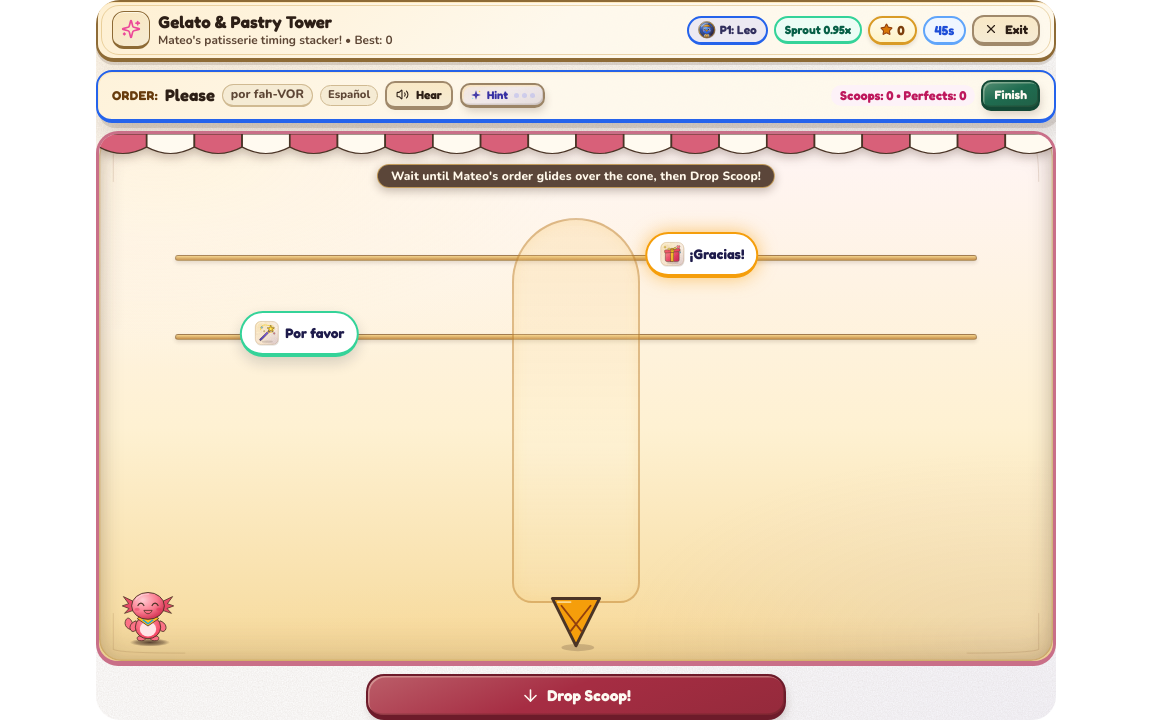
it: Cohort F [PT-101..PT-115]: Sprint 2 Features (Operation Starlight Horizon) › [PT-107] (S2-005 / S2-007) runs 2P Family Co-Op Arcade pass-and-play turn flow and settles dual-profile stats atomically
The image size is (1152, 720).
Earlier steps of the test are not shown.
Click the button "Drop Scoop!": (576, 697) [366,674,786,719]
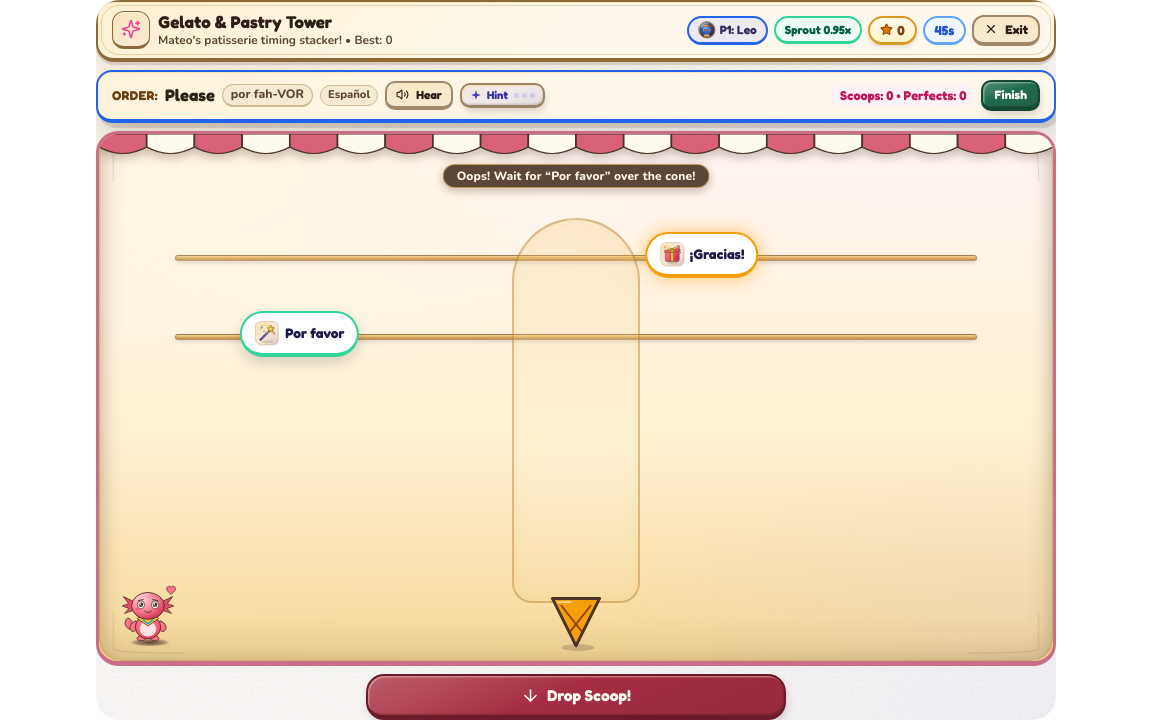
Click the button "Finish": (1011, 96) [981,80,1040,111]
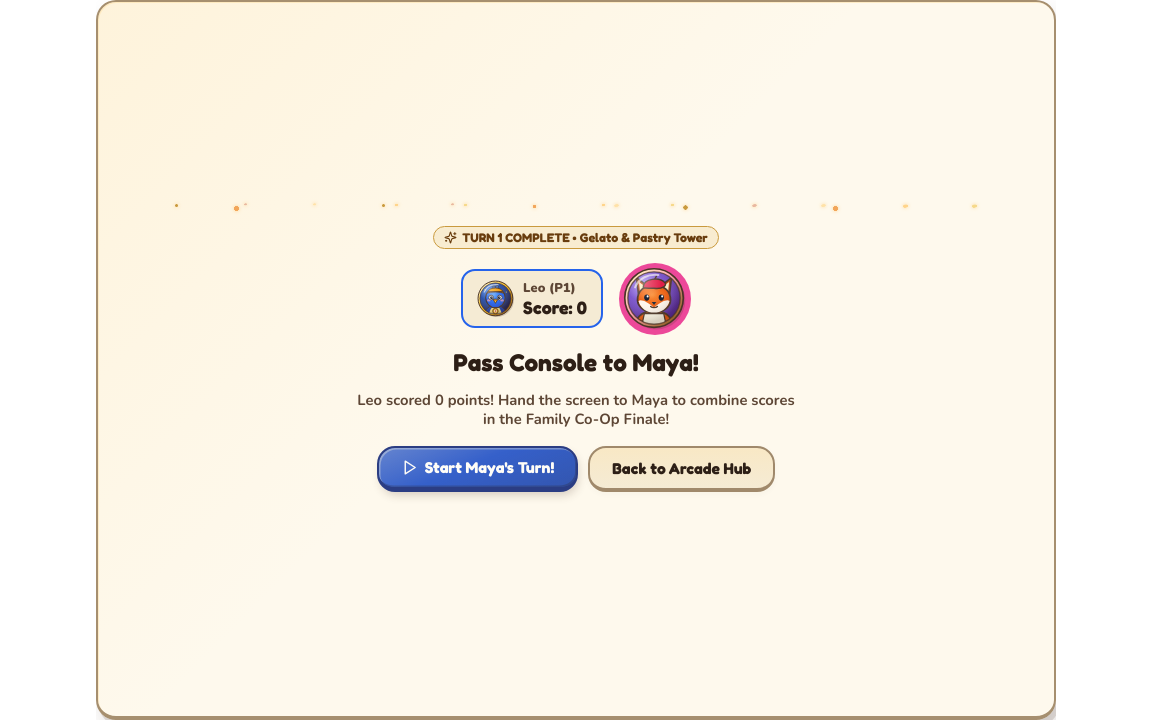
expect the element with test id "arcade-coop-handoff" shows "Pass Console to Maya!": met
Click the button "Start Maya's Turn!": (478, 469) [377,446,578,492]
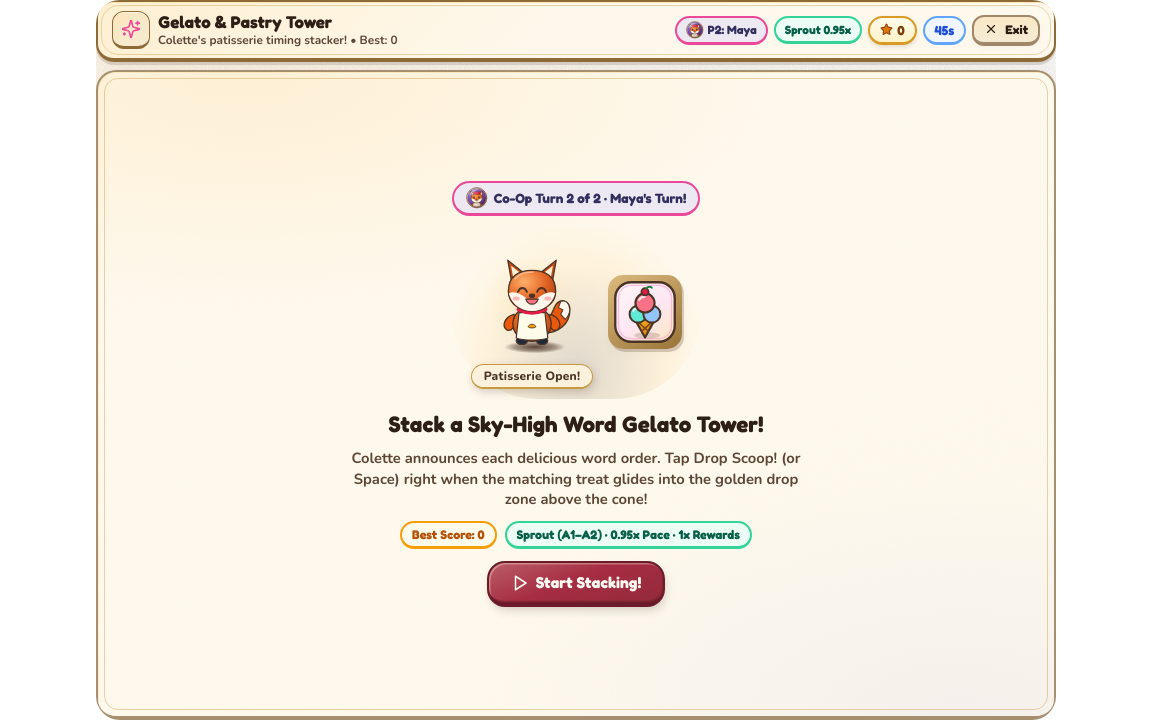
expect the element with test id "arcade-coop-turn-pill" reads "P2: Maya": met, box [675,16,768,44]
Click the button "Start Stacking!": (576, 584) [487,561,665,607]
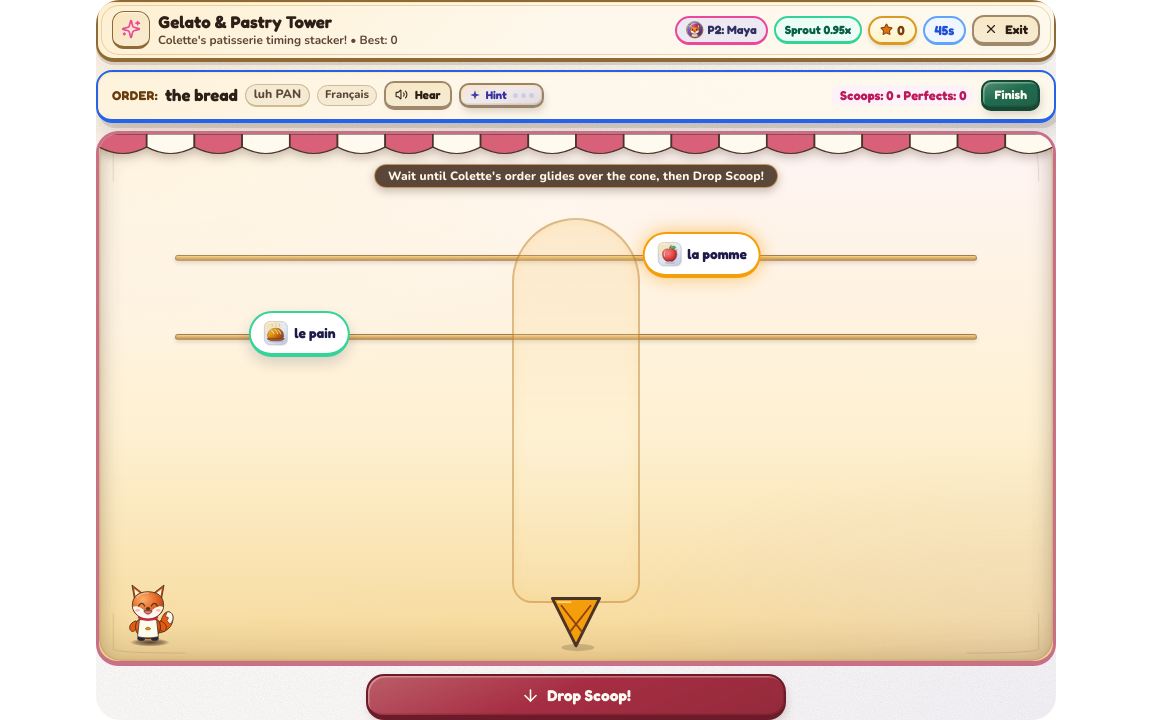
Click the button "Drop Scoop!": (576, 697) [366,674,786,719]
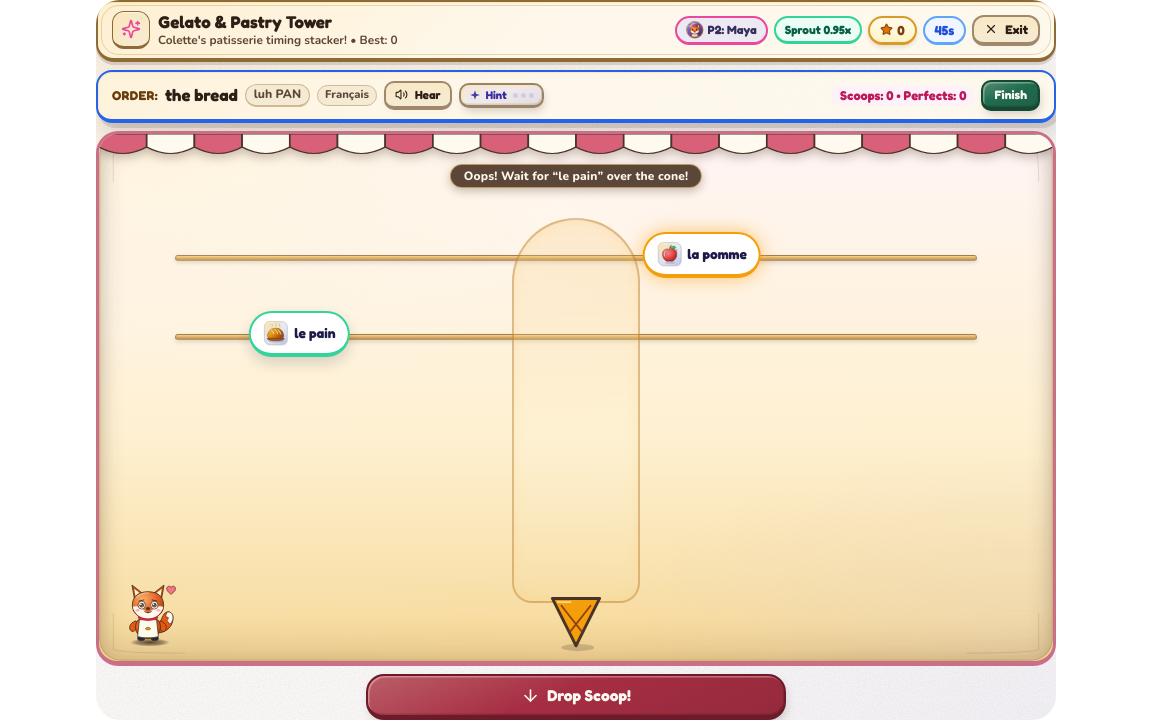
Click the button "Finish": (1011, 96) [981,80,1040,111]
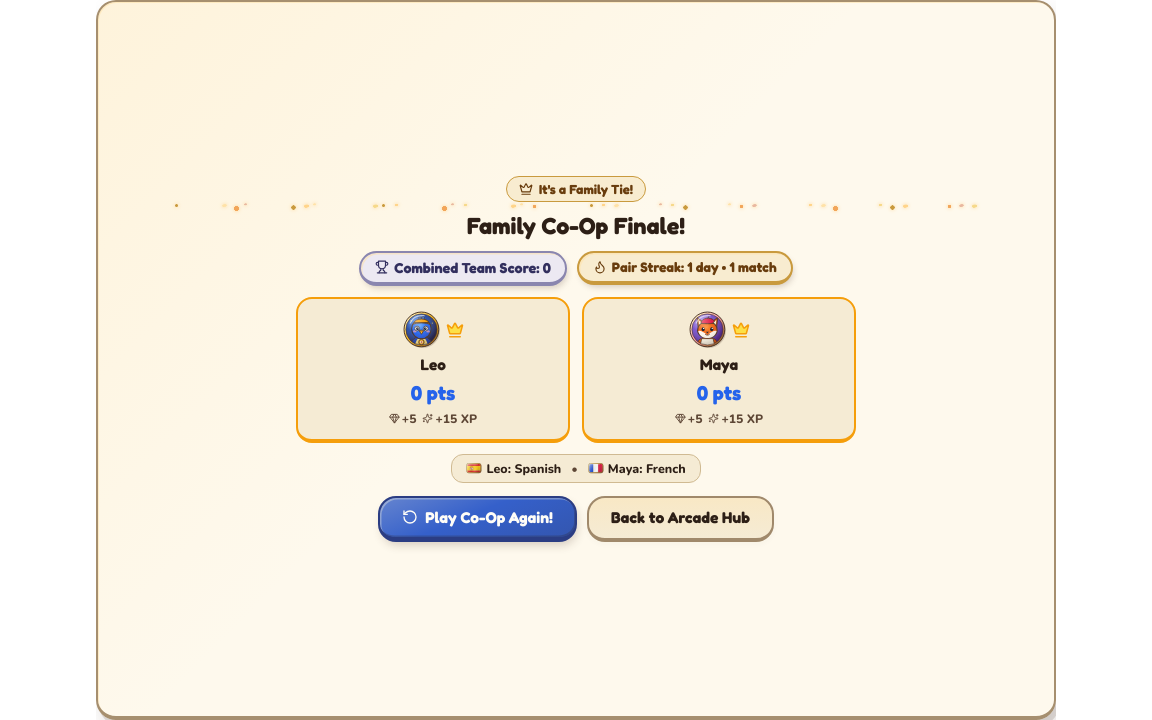
expect the element with test id "arcade-coop-summary" shows "Family Co-Op Finale!": met, box [467,211,685,240]
expect the element with test id "arcade-coop-summary" shows "Combined Team Score:": met, box [394,259,543,276]
